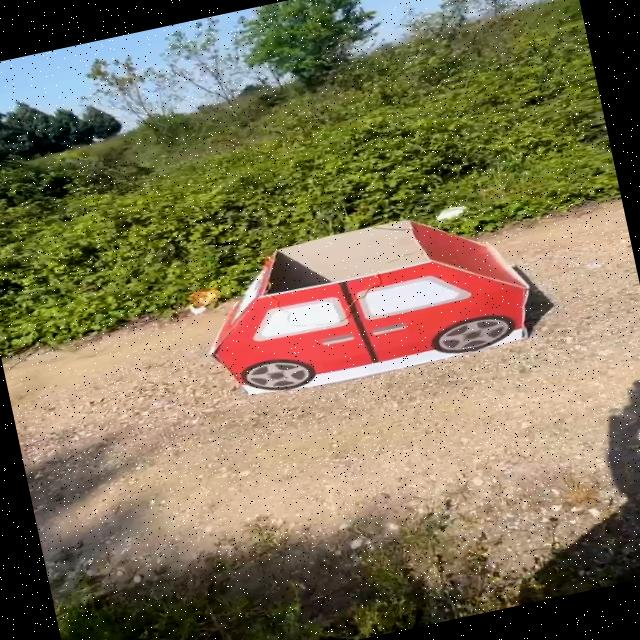red_car: (172, 184, 573, 424)
